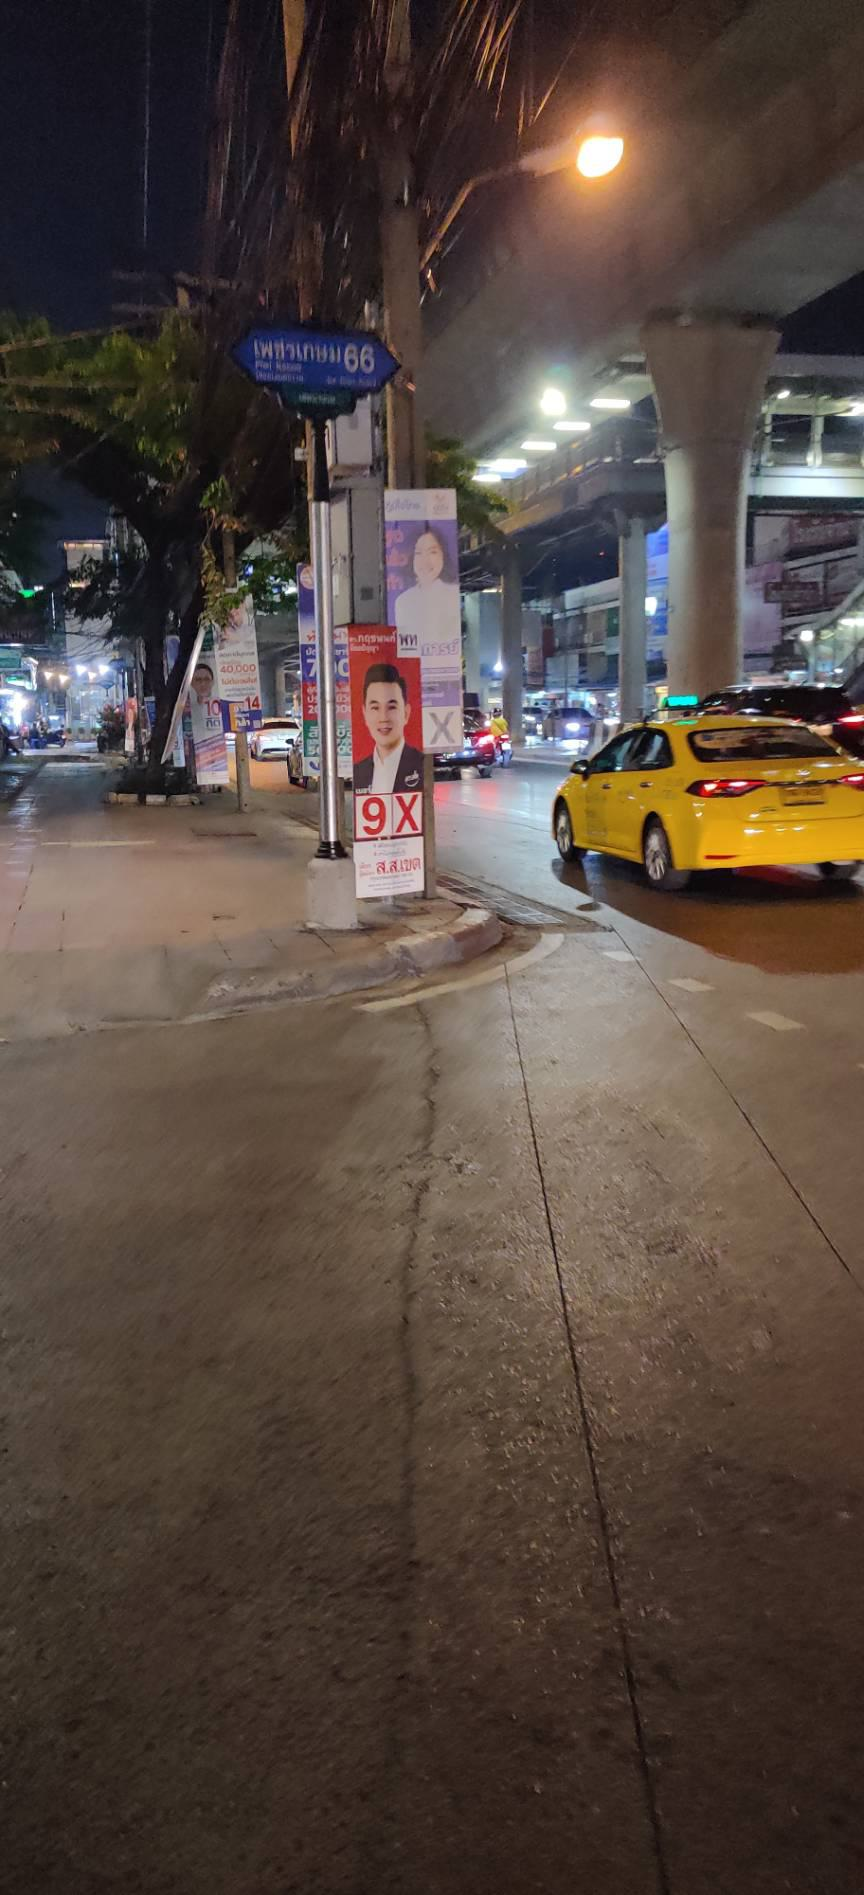Banner: (340, 619, 430, 899), (376, 482, 464, 742)
